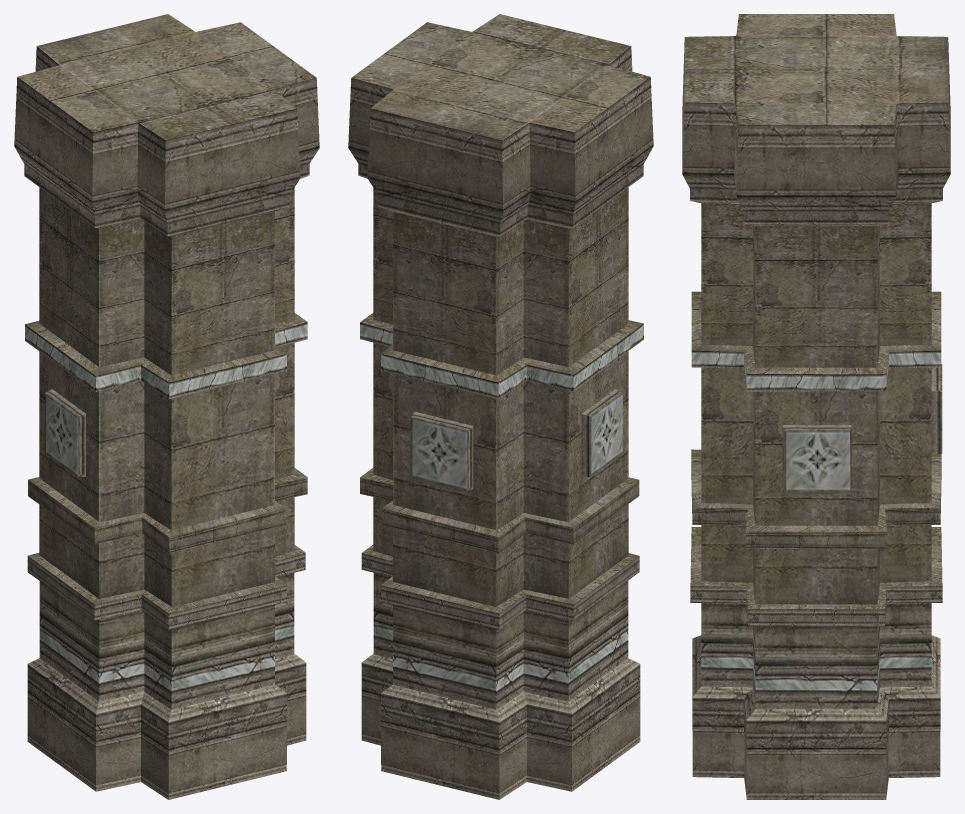
Rendered from SM_Plains_Column_Large_01.FBX.
3 views of the same model, side by side, from view 1: azimuth 30°, elevation 25°; view 2: azimuth 150°, elevation 25°; view 3: azimuth 270°, elevation 25° (orthographic). The views are drawn at different scales.
Visible parts, largest first — view 1: SM_Plains_Column_Large_01; view 2: SM_Plains_Column_Large_01; view 3: SM_Plains_Column_Large_01.
Part boxes in pixels (x1,y1,x2,y2): SM_Plains_Column_Large_01: (14, 14, 319, 799); SM_Plains_Column_Large_01: (348, 14, 653, 799); SM_Plains_Column_Large_01: (682, 14, 950, 799).
Size of the model in its own units: 93.43 by 261 by 93.43.
